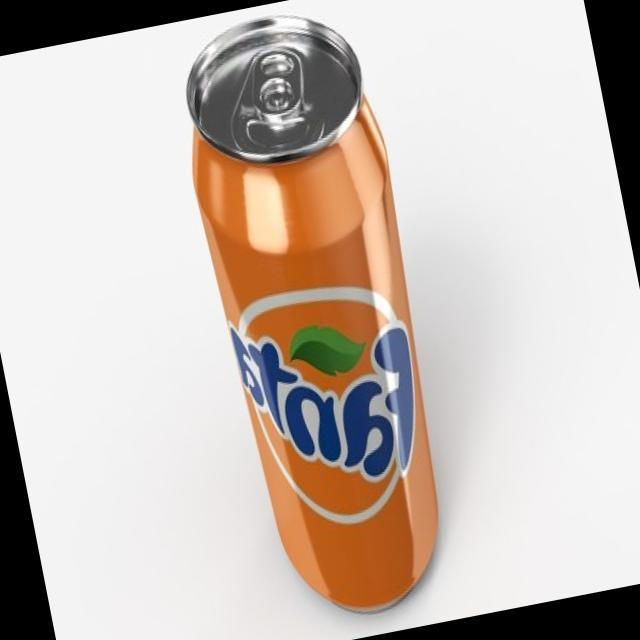fanta: (164, 1, 474, 636)
